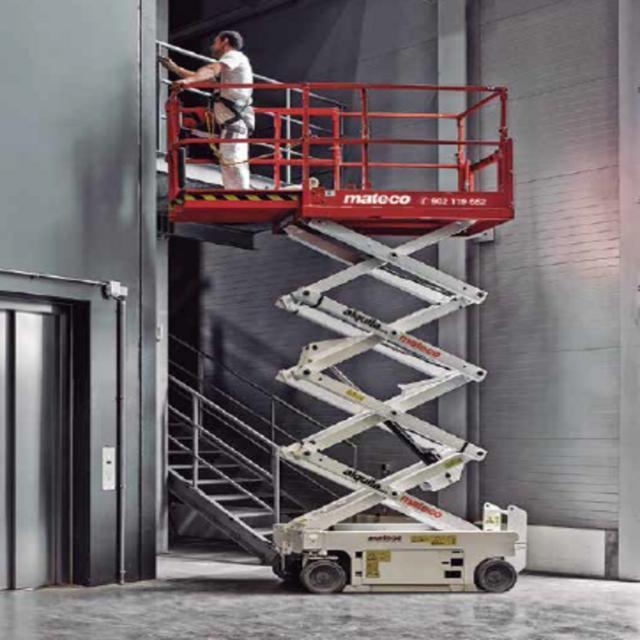Arnes_seguridad: (210, 92, 249, 130)
